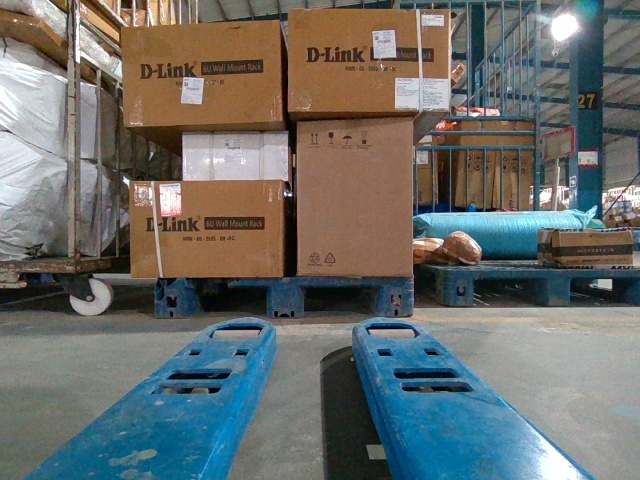block: (265, 277, 308, 322), (156, 278, 193, 320), (380, 277, 414, 316), (444, 268, 472, 308), (544, 269, 571, 308)
front: (157, 273, 414, 314)
hole pallet: (303, 284, 377, 317), (196, 287, 271, 318), (569, 277, 639, 309), (473, 278, 545, 307)
